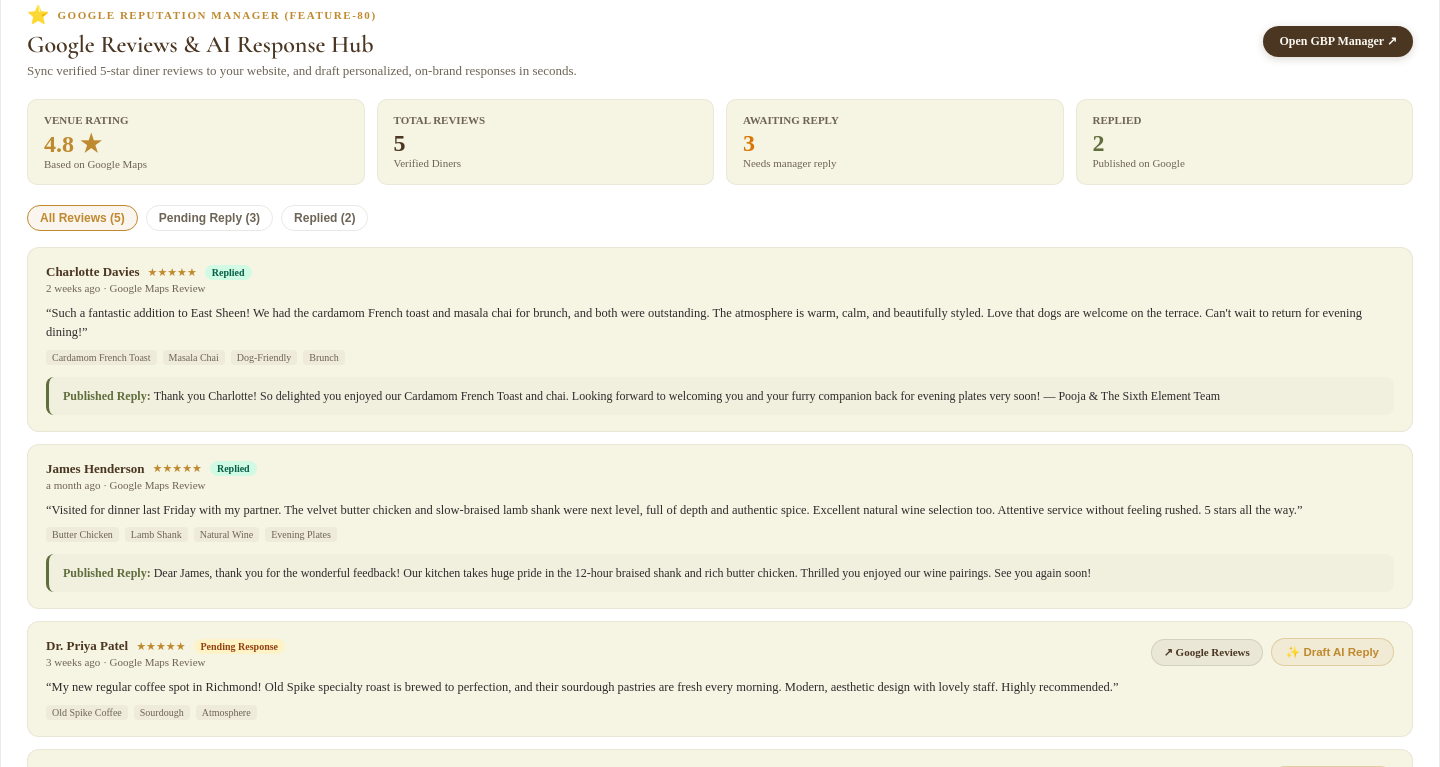
Test: FEATURE-80: Google Reviews Ingestion & AI Reputation Manager (GBP-03) › 5. Staff Portal: renders GoogleReviewsManager with KPI metrics and AI reply drawer
Expected: the heading "Google Reviews & AI Response Hub" is shown, [27,30,374,59]
Expected: the text "4.8 ★" is shown, [44,131,102,157]
Note: Click first Draft AI Reply button
Click the button "✨ Draft AI Reply" in the row of "Dr. Priya Patel" at (1332, 652), box [1271,638,1394,666]
(page scrolled)
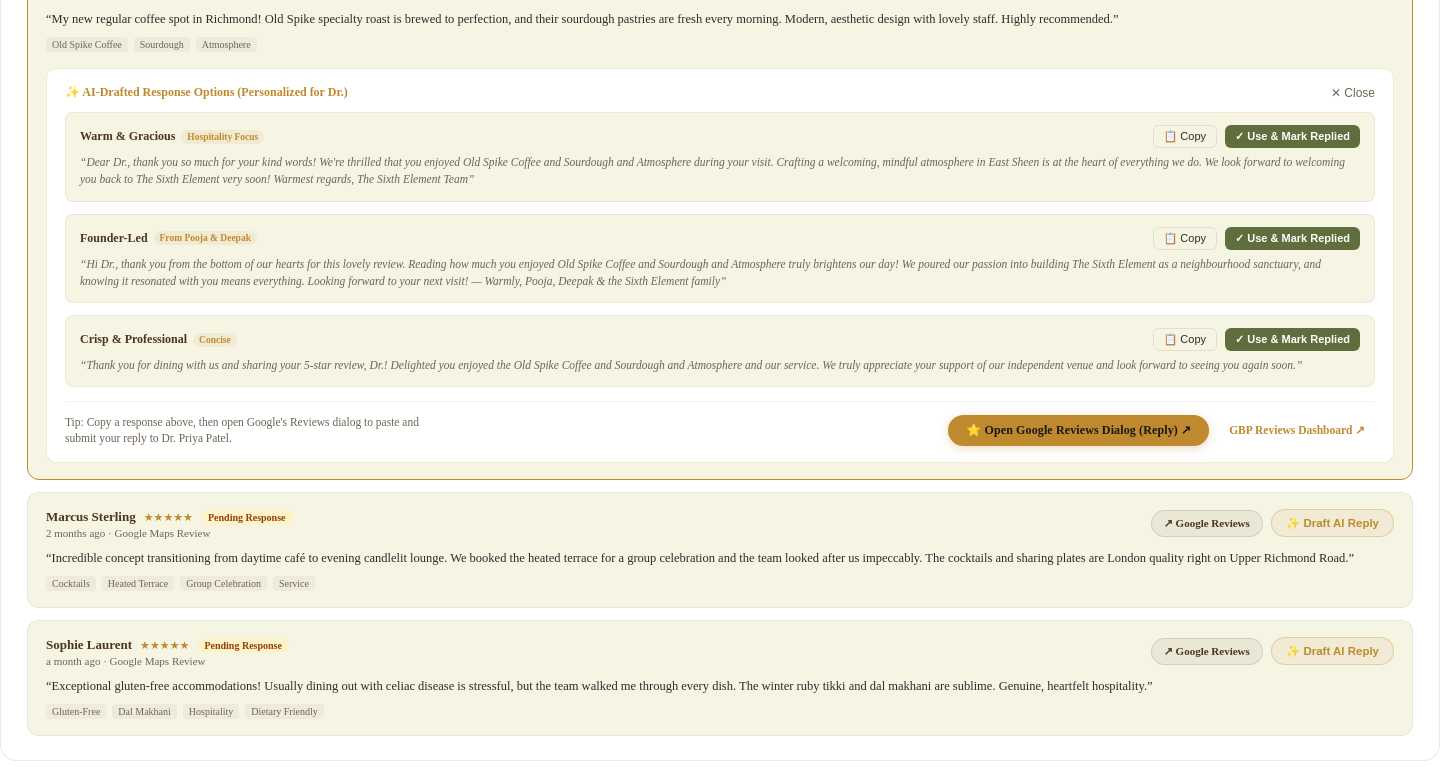
Expected: the text "✨ AI-Drafted Response Options (Personalized for Dr.)" is shown, [65,85,348,100]
Expected: the text "Warm & Gracious" is shown, [80,129,175,144]
Expected: the text "Founder-Led" is shown, [80,230,148,246]
